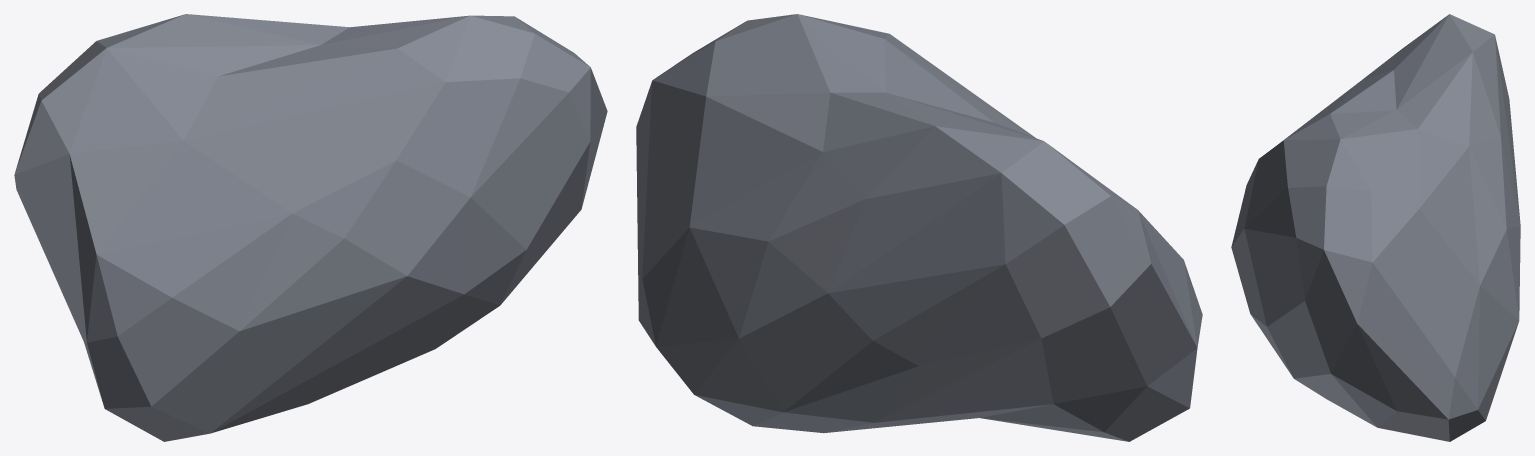
Rendered from mesh_rock_02.fbx.
3 views of the same model, side by side, from view 1: azimuth 30°, elevation 25°; view 2: azimuth 150°, elevation 25°; view 3: azimuth 270°, elevation 25° (orthographic). The views are drawn at different scales.
Parts seen in each view (by area): view 1: mesh_rock_02; view 2: mesh_rock_02; view 3: mesh_rock_02.
Part boxes in pixels (box(x1,y1,x2,y2)): mesh_rock_02: box(14, 14, 607, 441); mesh_rock_02: box(636, 14, 1202, 441); mesh_rock_02: box(1231, 14, 1520, 441).
Bounding box in the file's own units: 0.2418 × 0.1462 × 0.1264.
